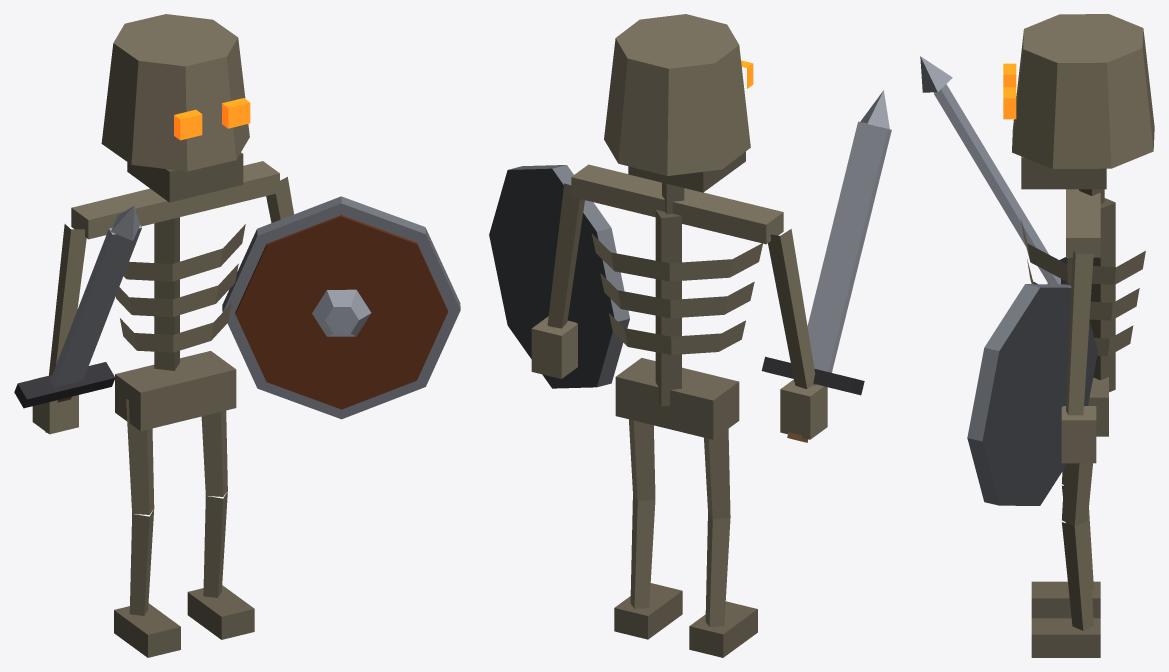
The model's file is skeleton.glb.
3 views of the same model, side by side, from view 1: azimuth 30°, elevation 25°; view 2: azimuth 150°, elevation 25°; view 3: azimuth 270°, elevation 25° (orthographic).
Visible parts, largest first — view 1: skeleton_shield, skeleton_head, skeleton_torso, skeleton_sword, skeleton_leg_r, skeleton_leg_l, skeleton_arm_r, skeleton_arm_l; view 2: skeleton_torso, skeleton_head, skeleton_shield, skeleton_sword, skeleton_leg_r, skeleton_leg_l, skeleton_arm_r, skeleton_arm_l; view 3: skeleton_head, skeleton_shield, skeleton_torso, skeleton_leg_l, skeleton_arm_l, skeleton_sword, skeleton_leg_r.
Part boxes in pixels (x1,y1,x2,y2): skeleton_shield: [222, 196, 460, 419]; skeleton_head: [101, 14, 250, 202]; skeleton_torso: [71, 161, 279, 431]; skeleton_sword: [14, 206, 141, 432]; skeleton_leg_r: [114, 399, 180, 657]; skeleton_leg_l: [187, 410, 254, 639]; skeleton_arm_r: [32, 224, 86, 434]; skeleton_arm_l: [266, 177, 293, 222]; skeleton_torso: [571, 164, 783, 439]; skeleton_head: [604, 14, 753, 214]; skeleton_shield: [489, 165, 629, 388]; skeleton_sword: [761, 90, 891, 442]; skeleton_leg_r: [689, 407, 757, 657]; skeleton_leg_l: [614, 419, 682, 639]; skeleton_arm_r: [768, 229, 827, 439]; skeleton_arm_l: [531, 183, 584, 378]; skeleton_head: [1003, 14, 1154, 203]; skeleton_shield: [967, 284, 1097, 505]; skeleton_torso: [1021, 189, 1145, 436]; skeleton_leg_l: [1031, 463, 1100, 657]; skeleton_arm_l: [1061, 250, 1096, 463]; skeleton_sword: [920, 56, 1067, 284]; skeleton_leg_r: [1031, 468, 1100, 618].
Size of the model in its own units: 1.09 by 1.52 by 0.5445.
